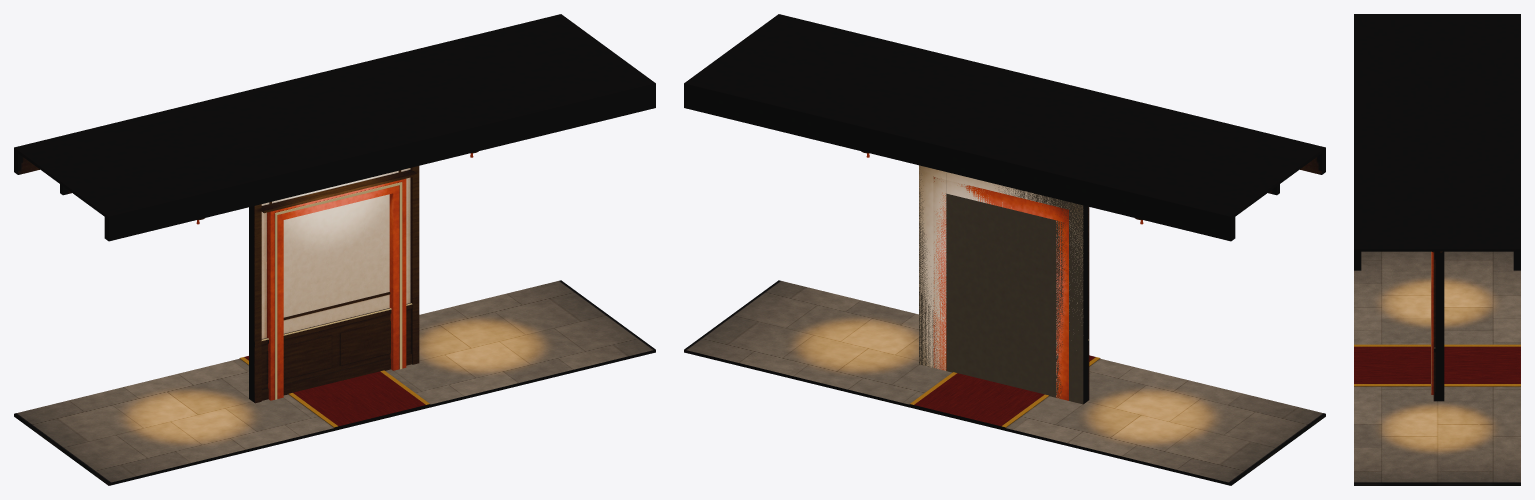
File: corridor-kit.glb
The picture shows the model from 3 angles, left to right: view 1: azimuth 30°, elevation 25°; view 2: azimuth 150°, elevation 25°; view 3: azimuth 270°, elevation 25°; orthographic projection. The views are drawn at different scales.
Parts seen in each view (by area): view 1: kit_ceiling, kit_floor, kit_wall, kit_portal; view 2: kit_ceiling, kit_floor, kit_wall, kit_portal; view 3: kit_ceiling, kit_floor, kit_wall, kit_portal.
Boxes of the visible parts, x1,y1,x2,y2 form: kit_ceiling: (14,14,655,241); kit_floor: (14,280,655,485); kit_wall: (249,170,412,402); kit_portal: (249,166,419,403); kit_ceiling: (684,14,1325,241); kit_floor: (684,280,1325,485); kit_wall: (919,173,1088,404); kit_portal: (919,165,1089,400); kit_ceiling: (1354,14,1520,270); kit_floor: (1354,251,1520,485); kit_wall: (1434,251,1444,401); kit_portal: (1431,251,1435,401).
Size of the model in its own units: 10 by 4.7 by 3.
Materials: 6 (4 with a texture image).
